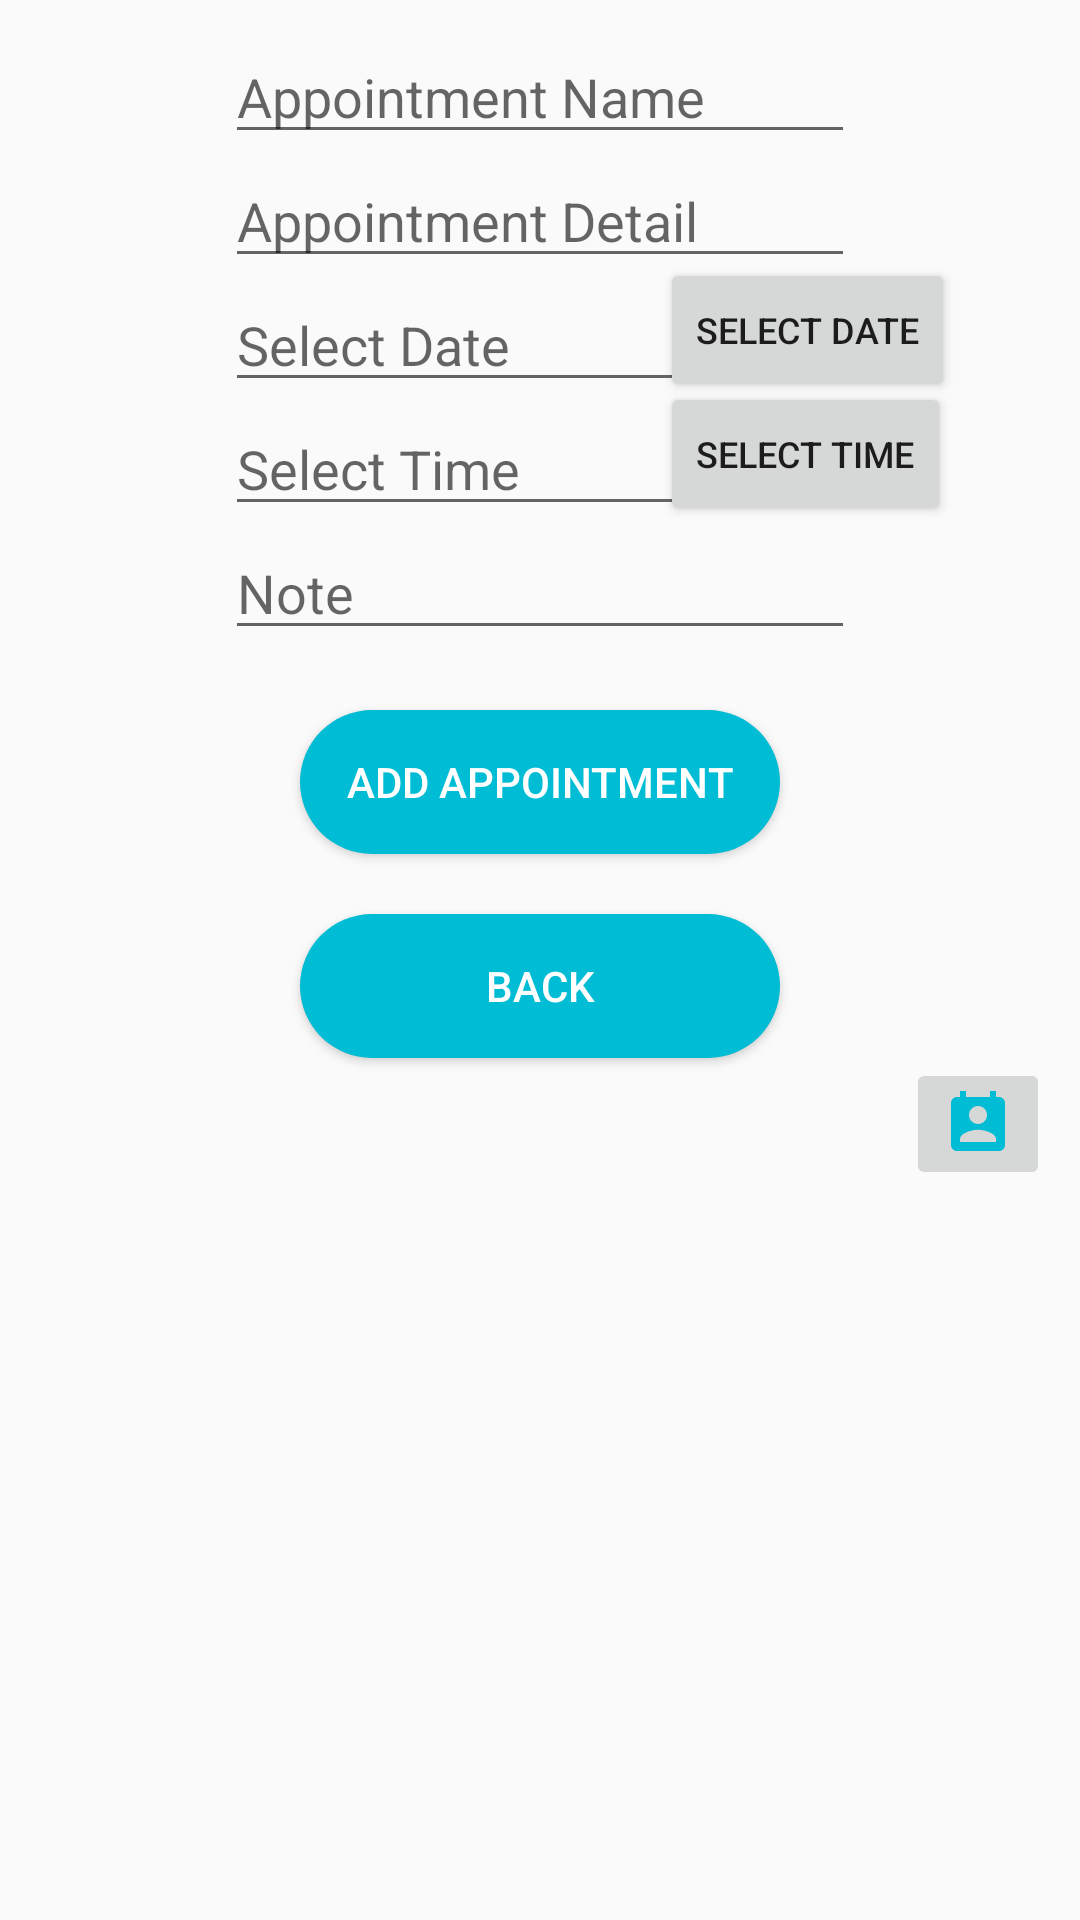

Screen size 1080x1920. Icon name, then its center in pixels as point (x, y):
perm contact calendar: point (978, 1124)
